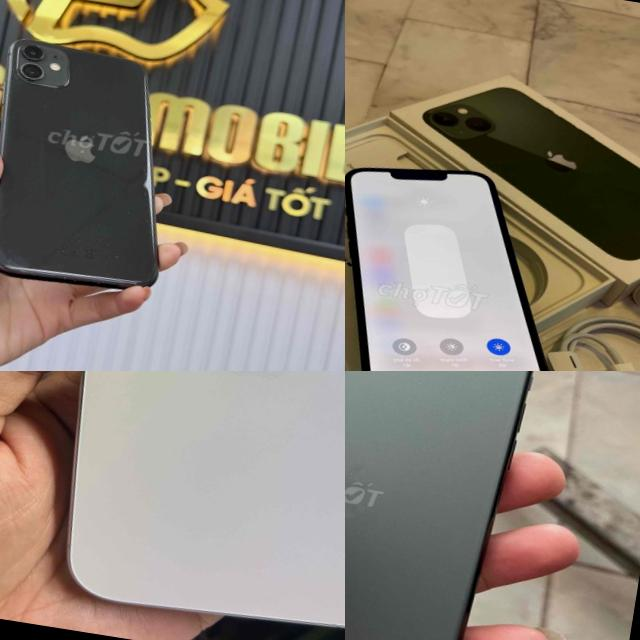gen_11: (345, 371, 550, 640), (0, 32, 195, 300)
gen_12_13: (345, 151, 584, 371)
gen_16: (67, 371, 345, 626)
scratch: (0, 189, 155, 292), (125, 153, 158, 200), (13, 41, 48, 82)
